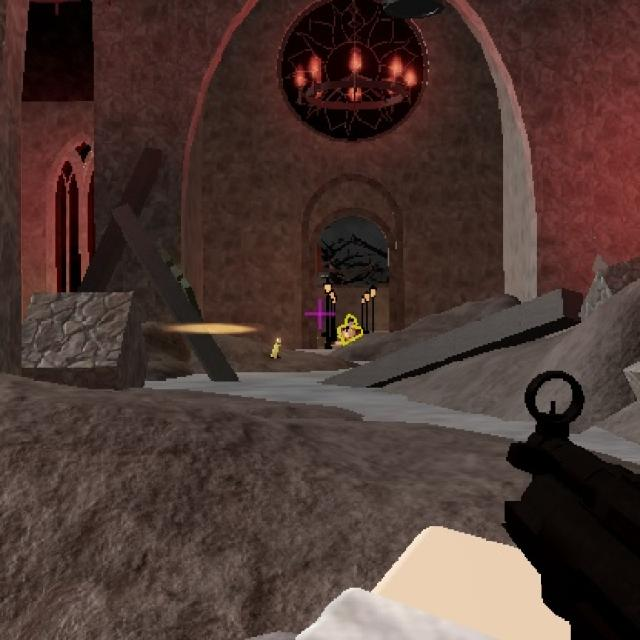player: (338, 316, 359, 346)
